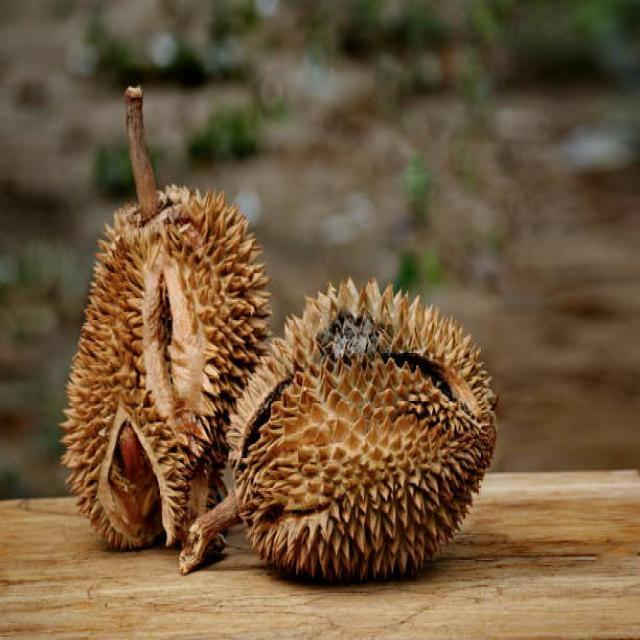defective: (231, 280, 515, 589), (63, 187, 259, 556)
